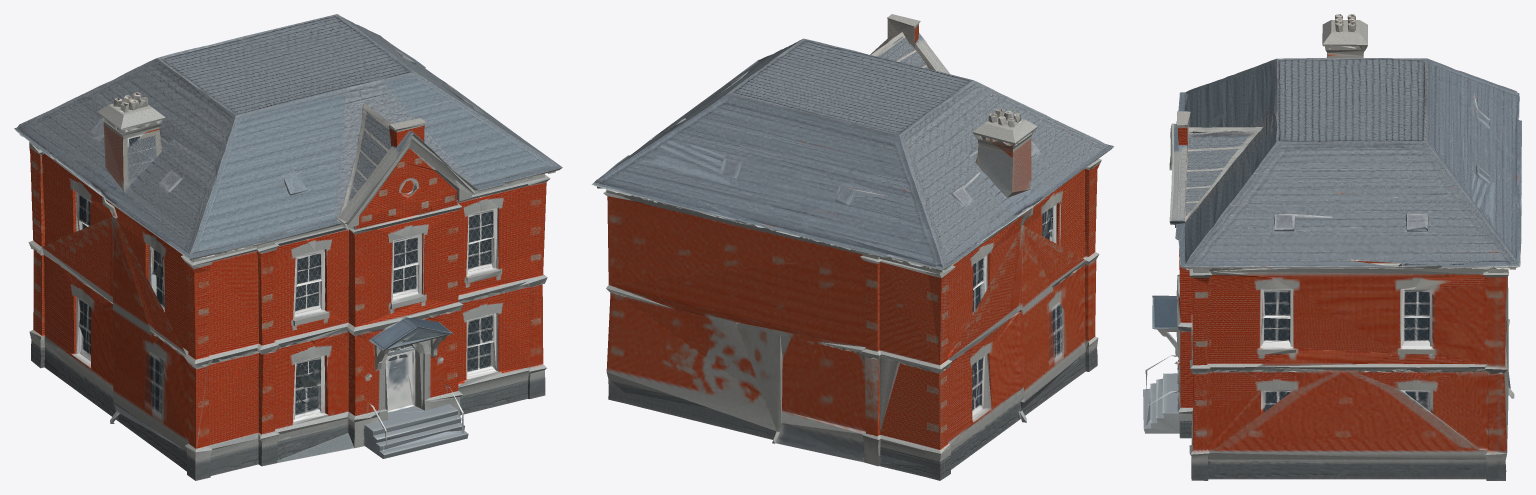
The model's file is school.glb.
3 views of the same model, side by side, from view 1: azimuth 30°, elevation 25°; view 2: azimuth 150°, elevation 25°; view 3: azimuth 270°, elevation 25° (orthographic). The views are drawn at different scales.
Bounding box in the file's own units: 1.9 × 1.55 × 1.74.
Materials: 1 (1 with a texture image).
